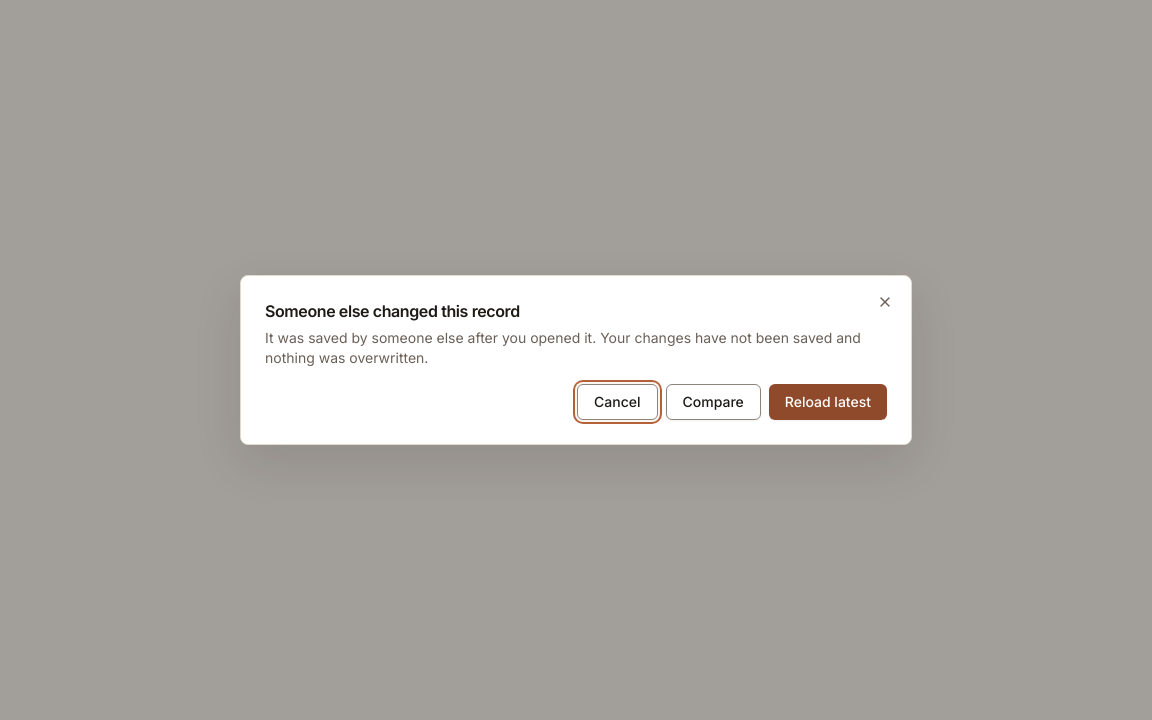
Scenario: VersionConflictDialog › explains the conflict and compares only what differs
Check: the dialog "Someone else changed this record" shows "nothing was overwritten", box left=265, top=329, right=861, bottom=366
Click the button "Compare": (713, 402) left=666, top=384, right=761, bottom=420
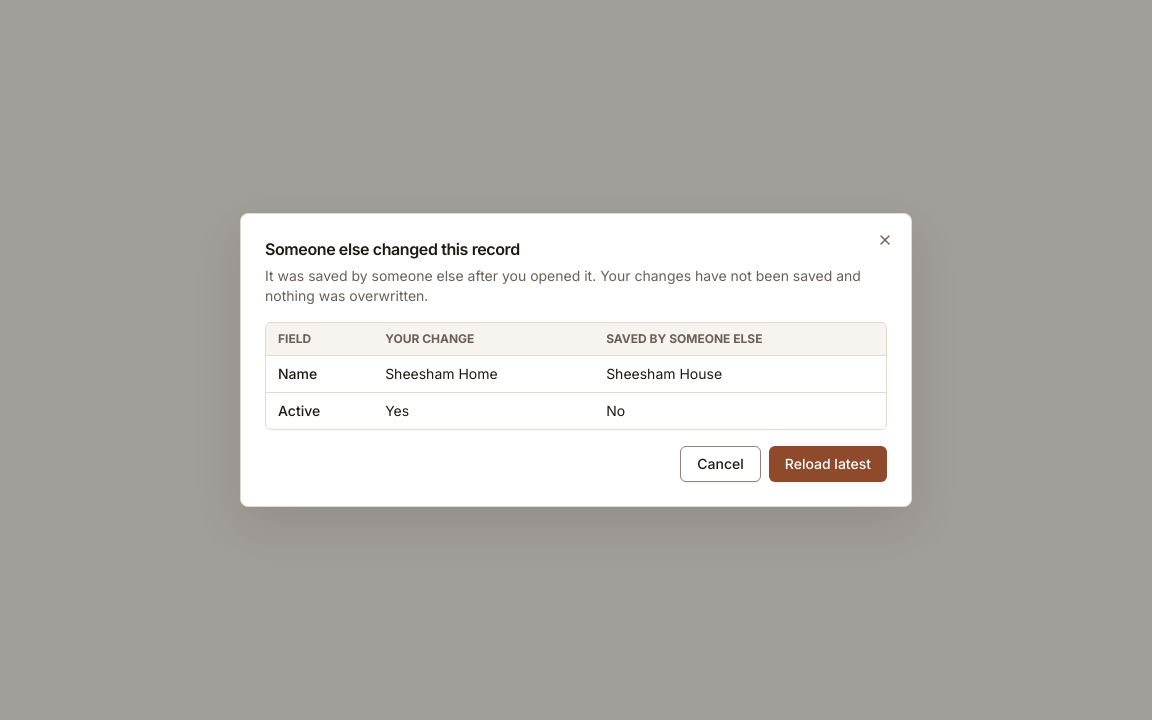
Check: the number of rows is 3, box left=266, top=323, right=886, bottom=355; left=266, top=356, right=886, bottom=392; left=266, top=392, right=886, bottom=429
Check: the column heading "Name" is shown, box left=266, top=356, right=373, bottom=392
Check: the text "Sheesham Home" is shown, box left=373, top=356, right=594, bottom=392
